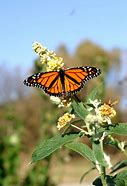insect: (24, 65, 101, 97)
